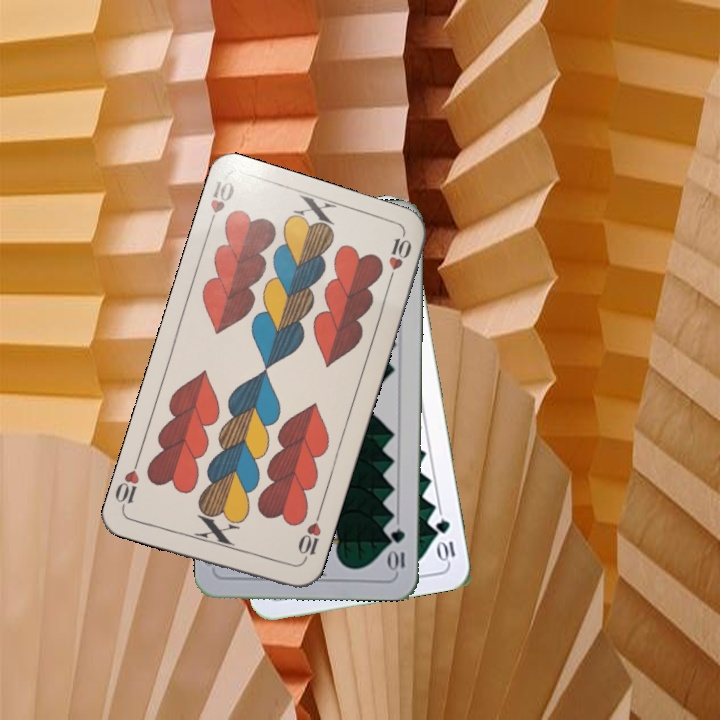G10: (432, 514, 458, 564), (387, 525, 407, 574)
H10: (203, 176, 238, 233), (294, 509, 324, 567)
